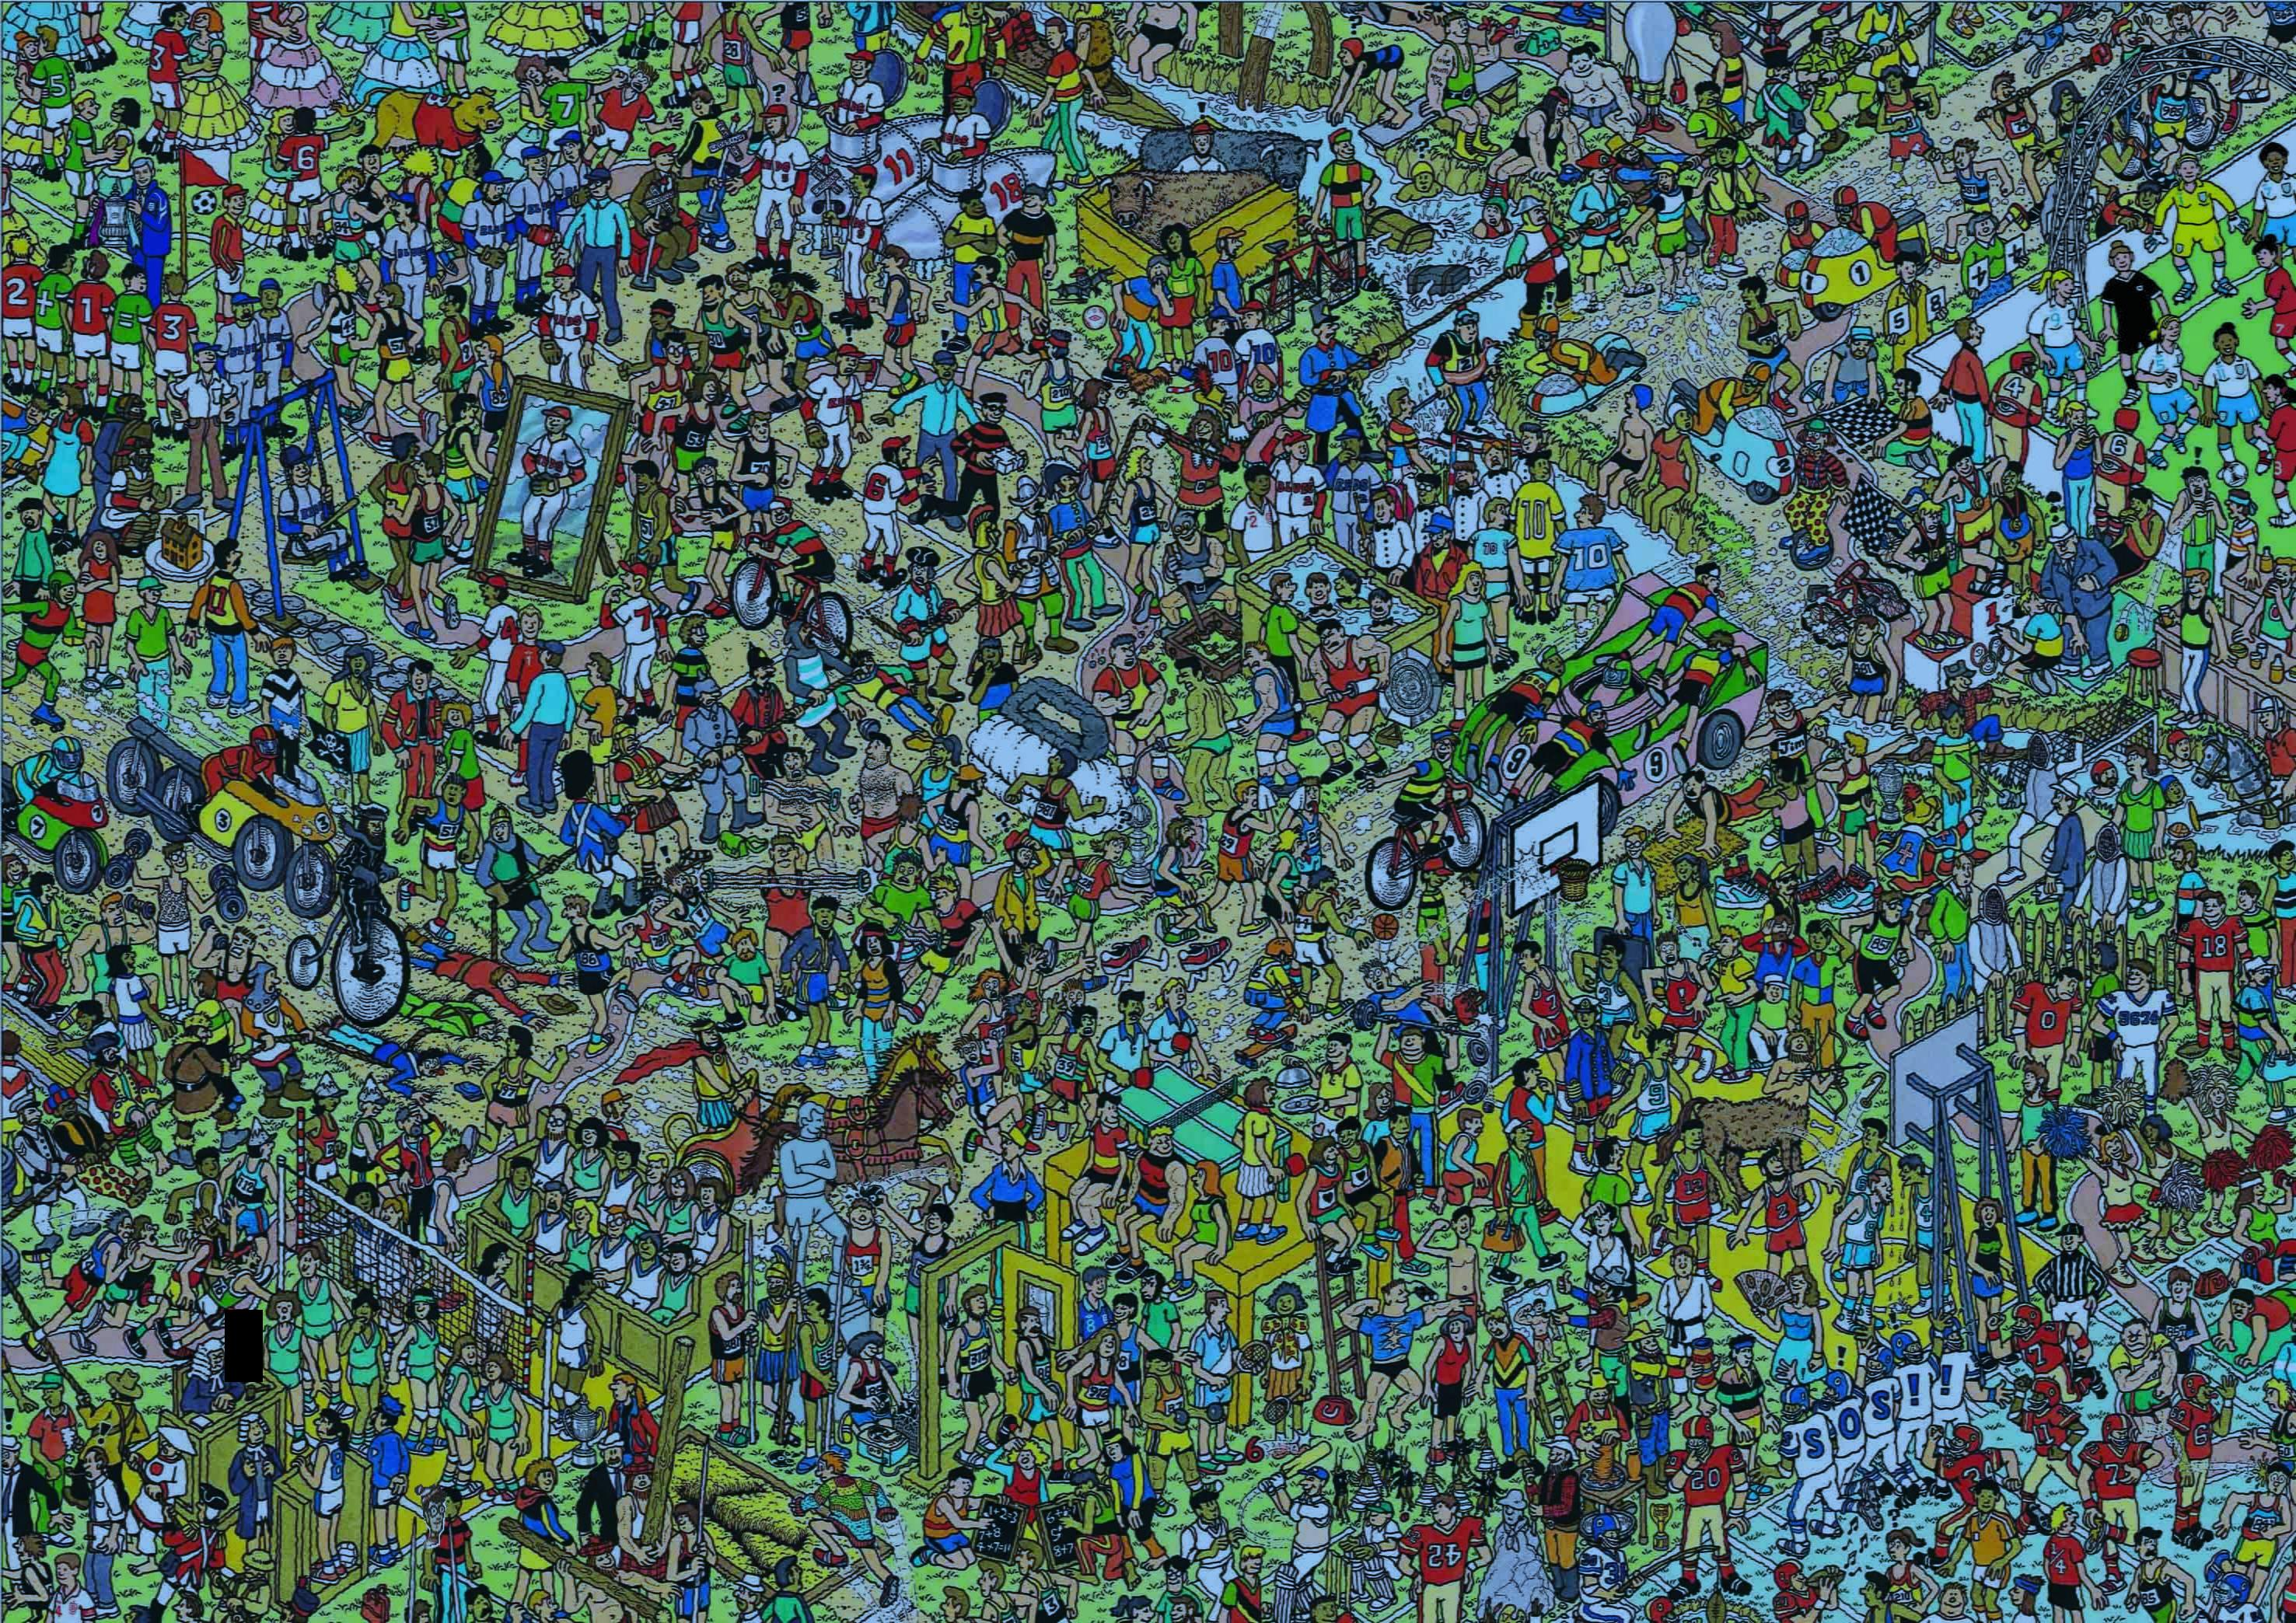waldos: (411, 1479, 450, 1551)
